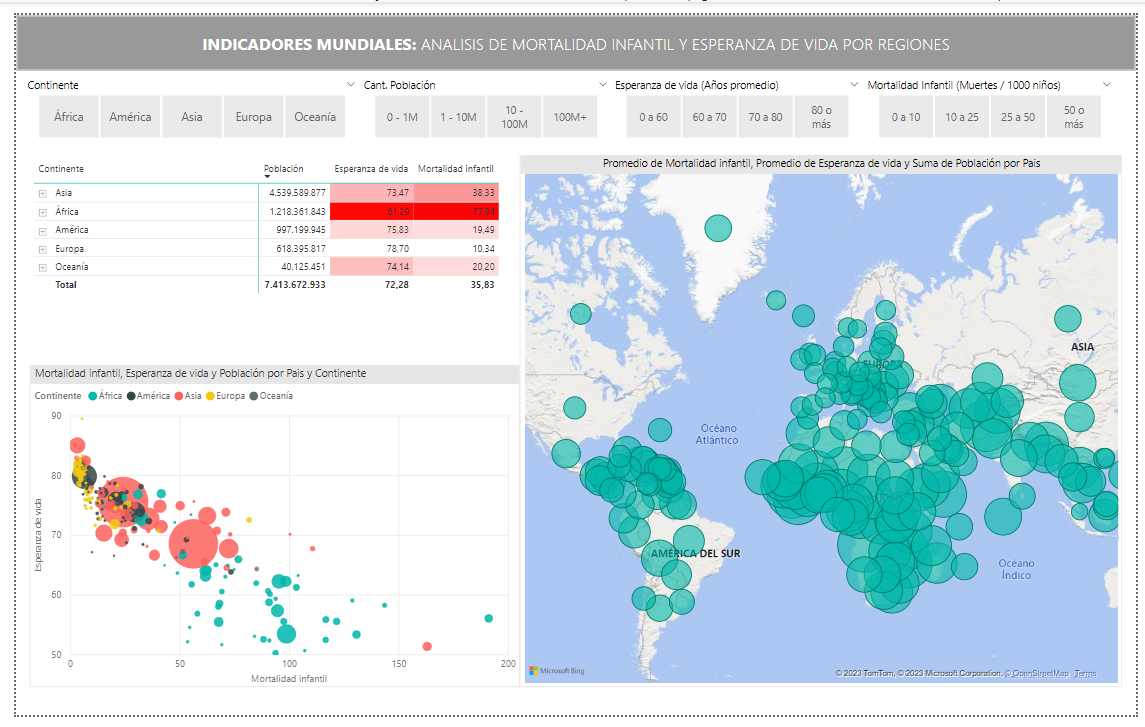

Layout of this report page (visuals, bound fields, positions):
{"tool":"powerbi","page":{"name":"Indicadores mundiales","canvas":[1280,800],"ordinal":1},"visuals":[{"type":"shape","box":[0,0,1280,64],"z":0},{"type":"pivotTable","fields":{"Rows":["Paises.Continente","Paises.Pais"],"Values":["Sum(Population.Población)","Avg(Esperanza de vida.Esperanza de vida)","Avg(Mortalidad Infantil.Mortalidad infantil)"]},"box":[16,160,560,208],"z":1000},{"type":"slicer","fields":{"Values":["Population.Cant. Población"]},"box":[384,67.2,304,80],"z":2000},{"type":"slicer","fields":{"Values":["Paises.Continente"]},"box":[0,67.2,400,80],"z":3000},{"type":"map","fields":{"Category":["Paises.Jerarquía Continente-Pais.Continente","Paises.Jerarquía Continente-Pais.Pais"],"Size":["Avg(Mortalidad Infantil.Mortalidad infantil)"]},"box":[576,160,688,640],"z":4000},{"type":"slicer","fields":{"Values":["Esperanza de vida.Esperanza de vida (Años promedio)"]},"box":[672,67.2,304,80],"z":5000},{"type":"slicer","fields":{"Values":["Mortalidad Infantil.Mortalidad Infantil (Muertes / 1000 niños)"]},"box":[960,67.2,304,80],"z":6000},{"type":"scatterChart","fields":{"X":["Avg(Mortalidad Infantil.Mortalidad infantil)"],"Y":["Avg(Esperanza de vida.Esperanza de vida)"],"Series":["Paises.Continente"],"Size":["Sum(Población.Población)"],"Category":["Paises.Jerarquía Continente-Pais.Continente","Paises.Jerarquía Continente-Pais.Pais"]},"box":[16,400,560,368],"z":7000},{"type":"textbox","box":[0,16,1280,48],"z":8000}]}

Visuals, with their boxes in screenshot pixels (x1, y1, x2, y2), scaled from the page's 1280x800 canvas onto the 1145x727 screenshot:
shape: x1=0 y1=0 x2=1144 y2=58
pivotTable - Paises.Continente x Paises.Pais: x1=14 y1=145 x2=515 y2=334
slicer - Population.Cant. Población: x1=344 y1=61 x2=615 y2=134
slicer - Paises.Continente: x1=0 y1=61 x2=358 y2=134
map - Paises.Jerarquía Continente-Pais.Continente x Paises.Jerarquía Continente-Pais.Pais: x1=515 y1=145 x2=1131 y2=726
slicer - Esperanza de vida.Esperanza de vida (Años promedio): x1=601 y1=61 x2=873 y2=134
slicer - Mortalidad Infantil.Mortalidad Infantil (Muertes / 1000 niños): x1=859 y1=61 x2=1131 y2=134
scatterChart - Avg(Mortalidad Infantil.Mortalidad infantil) x Avg(Esperanza de vida.Esperanza de vida): x1=14 y1=364 x2=515 y2=698
textbox: x1=0 y1=15 x2=1144 y2=58
